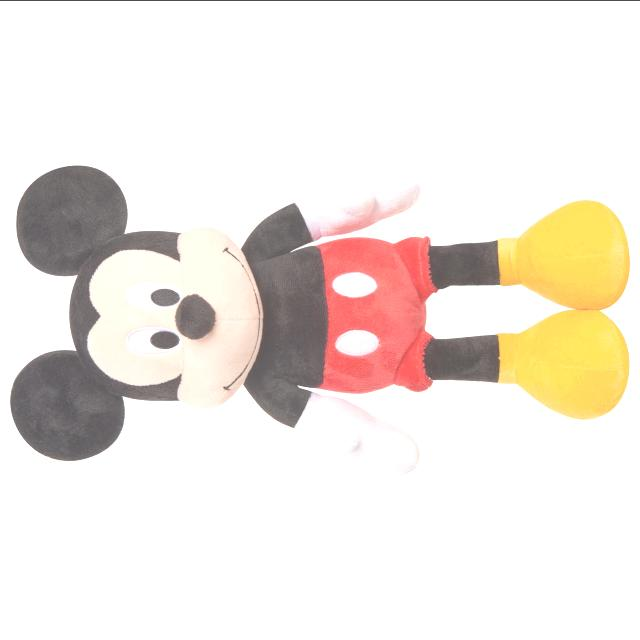mickey: (11, 166, 628, 474)
